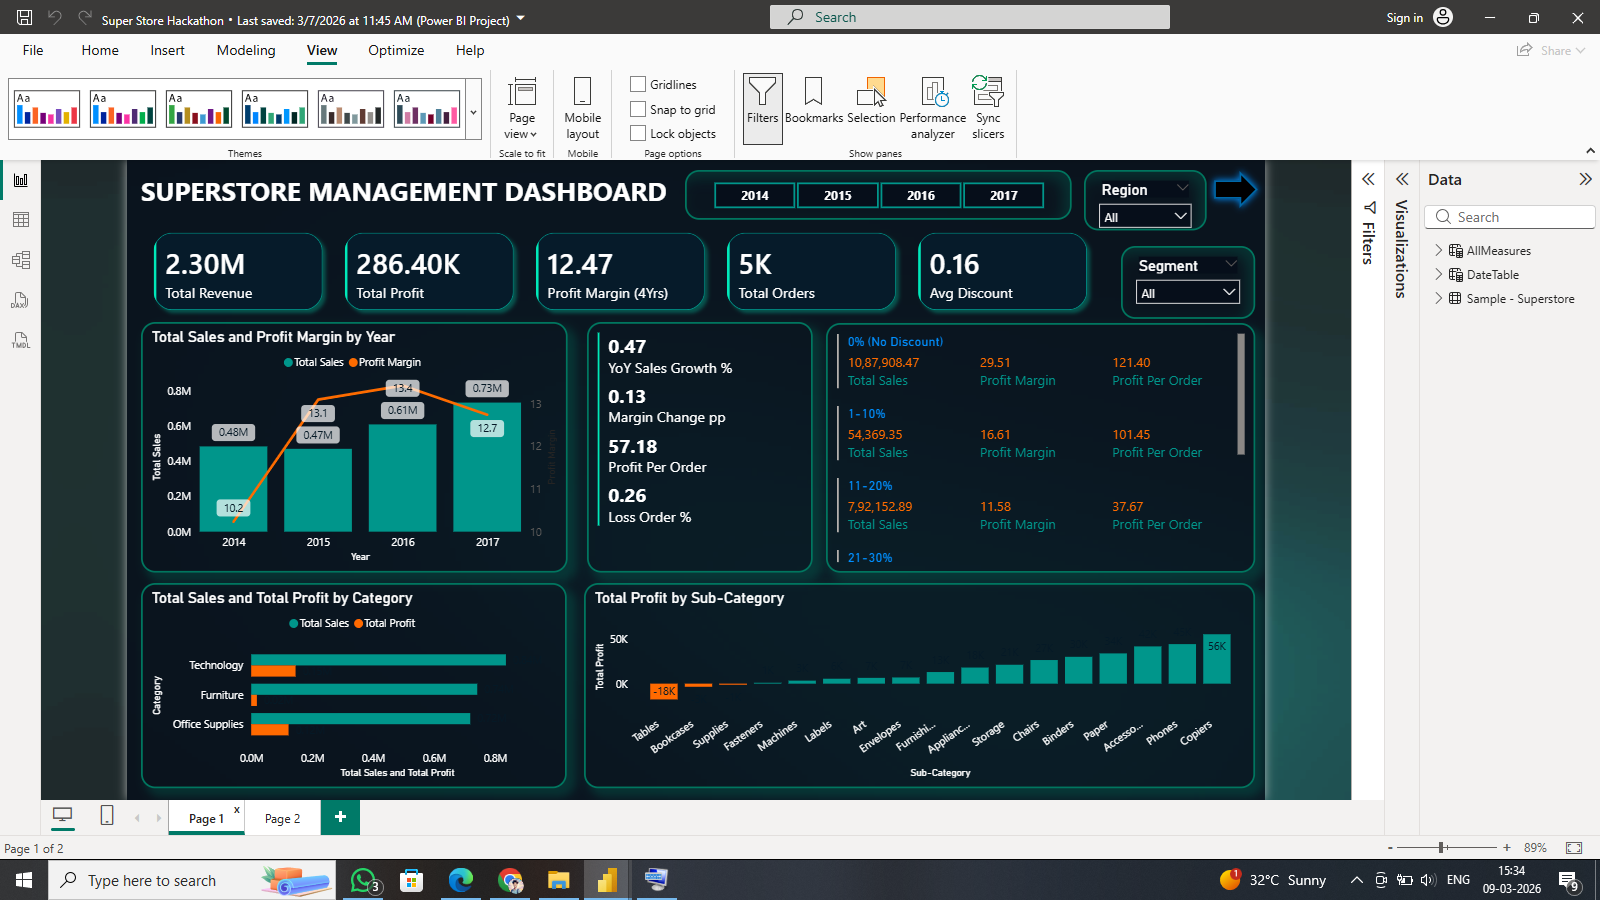

The dashboard page shown, as its layout file describes it:
{"tool":"powerbi","page":{"name":"Page 1","canvas":[1280,720],"ordinal":0},"visuals":[{"type":"slicer","fields":{"Values":["DateTable.Year"]},"box":[627.8,11.2,435.4,56.2],"z":0},{"type":"slicer","fields":{"Values":["Sample - Superstore.Region"]},"box":[1076.6,11.2,138.4,67.5],"z":1000},{"type":"slicer","fields":{"Values":["Sample - Superstore.Segment"]},"box":[1117.7,96.4,151.3,81.8],"z":2000},{"type":"cardVisual","fields":{"Data":["AllMeasures.Total Sales","AllMeasures.Total Profit","AllMeasures.profit margin","AllMeasures.Total Orders","AllMeasures.Avg Discount"]},"box":[0,51.8,1112.6,147.4],"z":3000},{"type":"lineStackedColumnComboChart","fields":{"Category":["DateTable.Year"],"Y":["AllMeasures.Total Sales"],"Y2":["AllMeasures.profit margin"]},"box":[15.9,181.8,479.5,281.9],"z":4000},{"type":"multiRowCard","fields":{"Values":["AllMeasures.YoY Sales Growth %","AllMeasures.Margin Change pp","AllMeasures.Profit Per Order","AllMeasures.Loss Order %"]},"box":[517.5,182.2,254.2,282.4],"z":5000},{"type":"columnChart","fields":{"Category":["Sample - Superstore.Sub-Category"],"Y":["AllMeasures.Total Profit"]},"box":[513.7,475.9,755.3,230.6],"z":6000},{"type":"multiRowCard","fields":{"Values":["Sample - Superstore.Discount Bucket","AllMeasures.Total Sales","AllMeasures.profit margin","AllMeasures.Profit Per Order"]},"box":[786.4,183.4,482.6,281.2],"z":7000},{"type":"clusteredBarChart","fields":{"Category":["Sample - Superstore.Category"],"Y":["AllMeasures.Total Sales","AllMeasures.Total Profit"]},"box":[16,476,479,231],"z":8000},{"type":"shape","box":[15.8,0,624.4,67.5],"z":9000},{"type":"shape","box":[1215,4.5,65.2,57.4],"z":9001}]}

Visuals, with their boxes on the page's 1280x720 design canvas (x1, y1, x2, y2). These are canvas units, not pixel positions in the 1600x900 screenshot, which may show the page scaled, cropped or inside an application window:
slicer - DateTable.Year: rect(628, 11, 1063, 67)
slicer - Sample - Superstore.Region: rect(1077, 11, 1215, 79)
slicer - Sample - Superstore.Segment: rect(1118, 96, 1269, 178)
cardVisual - AllMeasures.Total Sales x AllMeasures.Total Profit: rect(0, 52, 1113, 199)
lineStackedColumnComboChart - DateTable.Year x AllMeasures.Total Sales: rect(16, 182, 495, 464)
multiRowCard - AllMeasures.YoY Sales Growth % x AllMeasures.Margin Change pp: rect(518, 182, 772, 465)
columnChart - Sample - Superstore.Sub-Category x AllMeasures.Total Profit: rect(514, 476, 1269, 706)
multiRowCard - Sample - Superstore.Discount Bucket x AllMeasures.Total Sales: rect(786, 183, 1269, 465)
clusteredBarChart - Sample - Superstore.Category x AllMeasures.Total Sales: rect(16, 476, 495, 707)
shape: rect(16, 0, 640, 68)
shape: rect(1215, 4, 1280, 62)
